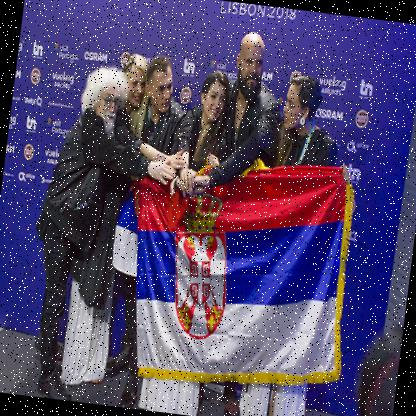rs: (98, 142, 366, 402)
